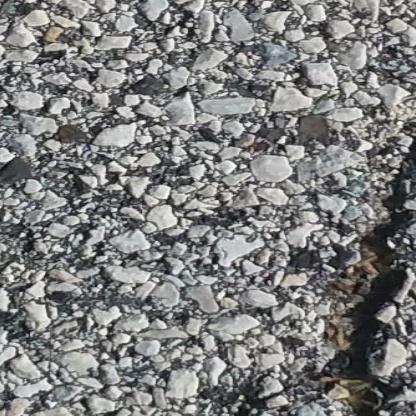Cracks: (292, 113, 416, 416), (203, 369, 272, 416)
